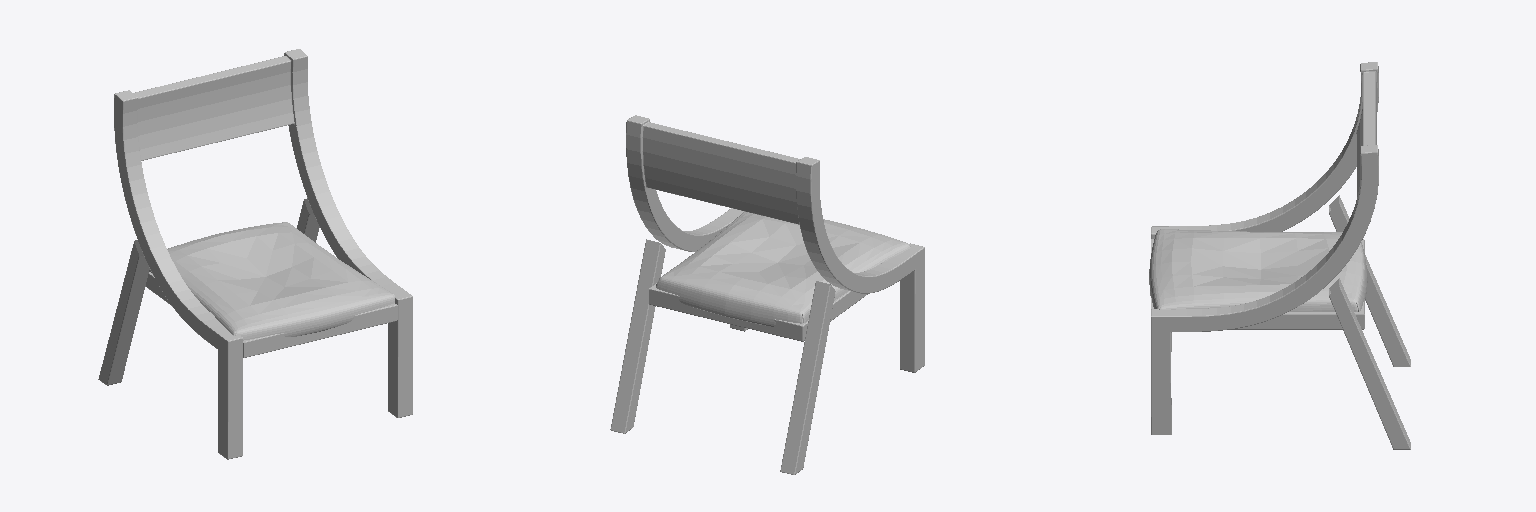
The model's file is lounge-center.obj.
The picture shows the model from 3 angles: view 1: azimuth 30°, elevation 25°; view 2: azimuth 150°, elevation 25°; view 3: azimuth 270°, elevation 25°; orthographic projection.
Visible parts, largest first — view 1: Merged_Meshes; view 2: Merged_Meshes; view 3: Merged_Meshes.
Boxes of the visible parts, x1,y1,x2,y2 form: Merged_Meshes: [98, 49, 412, 459]; Merged_Meshes: [610, 115, 924, 474]; Merged_Meshes: [1149, 62, 1410, 449].
Bounding box in the file's own units: 0.4994 × 0.7681 × 0.6113.